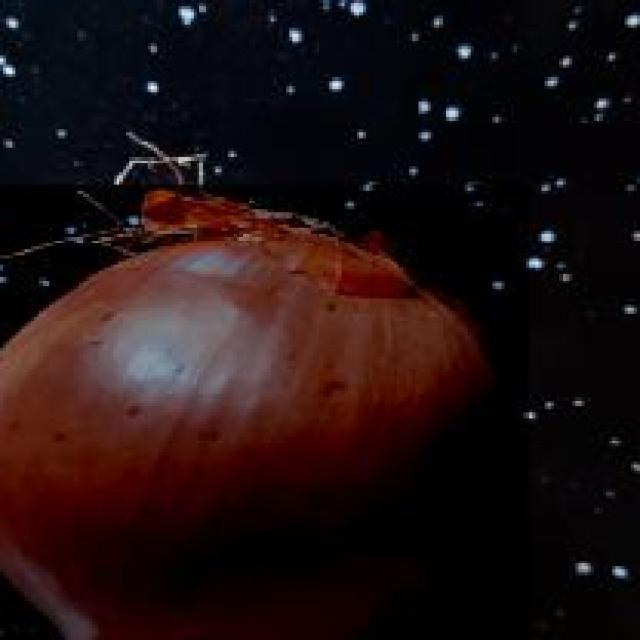onion: (0, 181, 536, 640)
